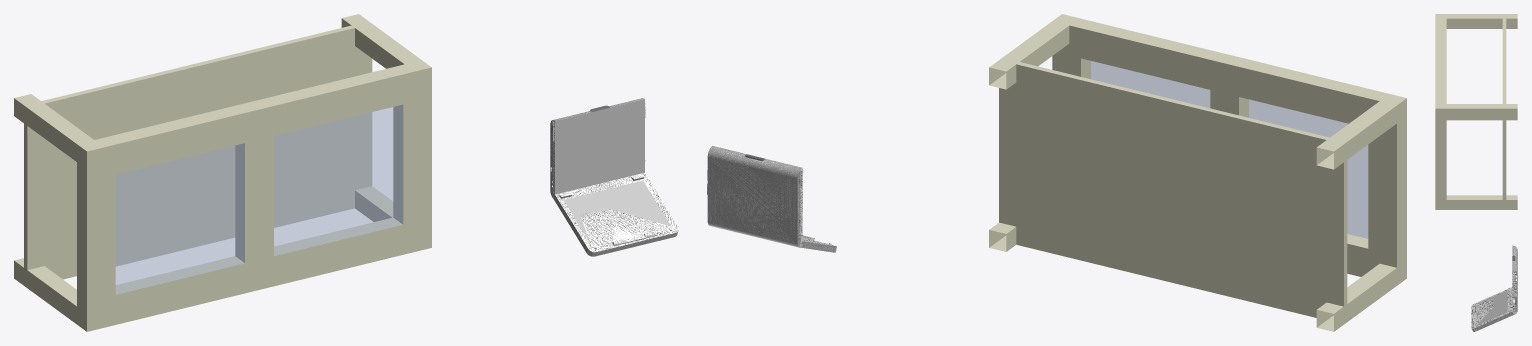
3 renders of one model, left to right at view 1: azimuth 30°, elevation 25°; view 2: azimuth 150°, elevation 25°; view 3: azimuth 270°, elevation 25°, orthographic. The views are drawn at different scales.
Visible parts, largest first — view 1: ec587f7879575de529cc3e5ff518065b, 11448f34681c545439f3410d5f76299b; view 2: ec587f7879575de529cc3e5ff518065b, 11448f34681c545439f3410d5f76299b; view 3: ec587f7879575de529cc3e5ff518065b, 11448f34681c545439f3410d5f76299b.
Part boxes in pixels (x1,y1,x2,y2): ec587f7879575de529cc3e5ff518065b: [14, 14, 431, 331]; 11448f34681c545439f3410d5f76299b: [550, 98, 678, 256]; ec587f7879575de529cc3e5ff518065b: [989, 14, 1406, 331]; 11448f34681c545439f3410d5f76299b: [707, 146, 836, 252]; ec587f7879575de529cc3e5ff518065b: [1435, 14, 1517, 209]; 11448f34681c545439f3410d5f76299b: [1471, 245, 1517, 331].
Size of the model in its own units: 2.54 by 1.01 by 0.5123.
